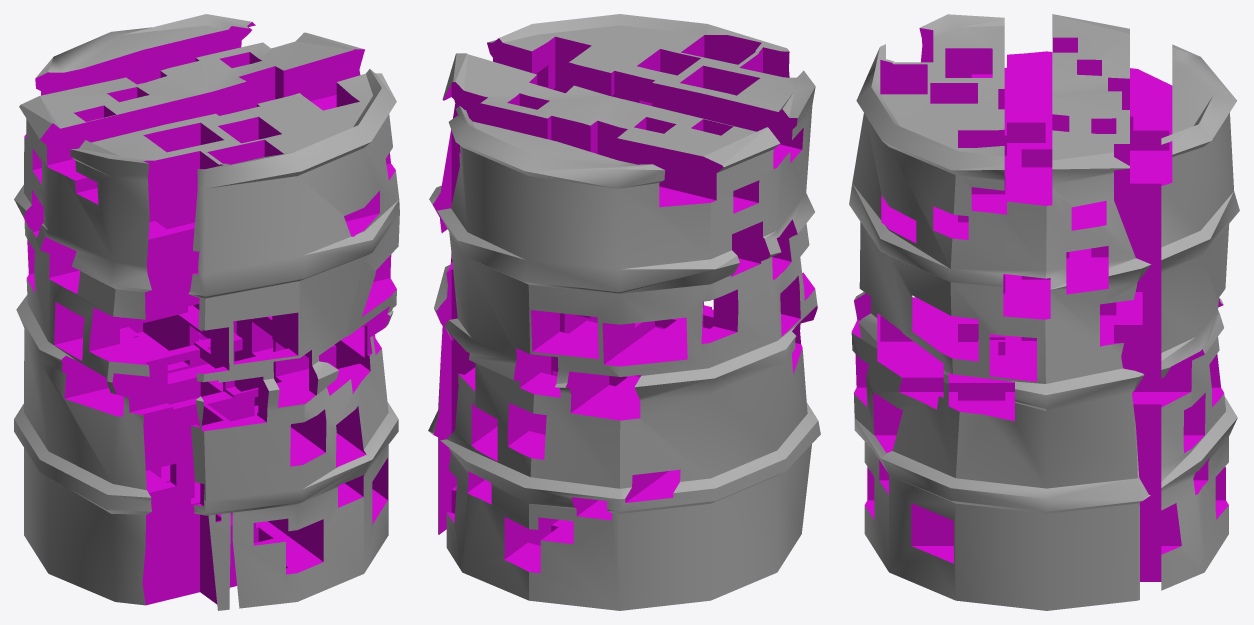
The model's file is Barrel_Glitch.fbx.
3 views of the same model, side by side, from view 1: azimuth 30°, elevation 25°; view 2: azimuth 150°, elevation 25°; view 3: azimuth 270°, elevation 25° (orthographic).
Visible parts, largest first — view 1: Barrel_Glitch; view 2: Barrel_Glitch; view 3: Barrel_Glitch.
Boxes of the visible parts, <box> form: Barrel_Glitch: <box>14,14,399,610</box>; Barrel_Glitch: <box>428,14,820,610</box>; Barrel_Glitch: <box>849,14,1239,610</box>.
Bounding box in the file's own units: 0.9308 × 1.16 × 0.9192.
